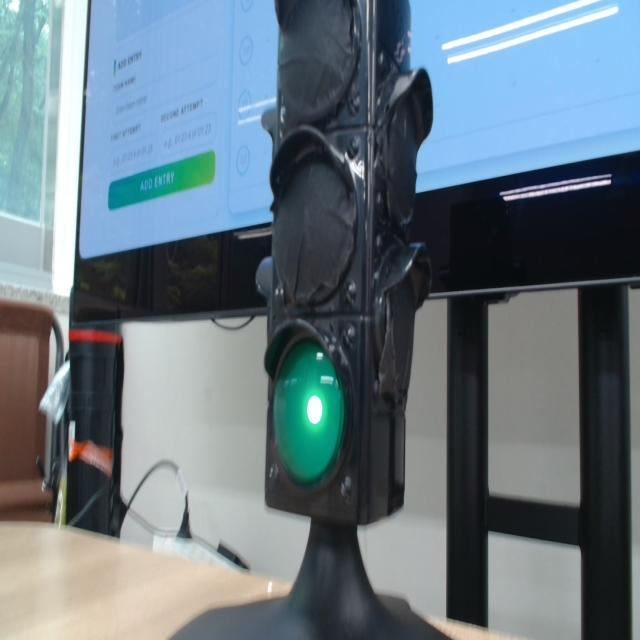green_light: (273, 341, 344, 484)
